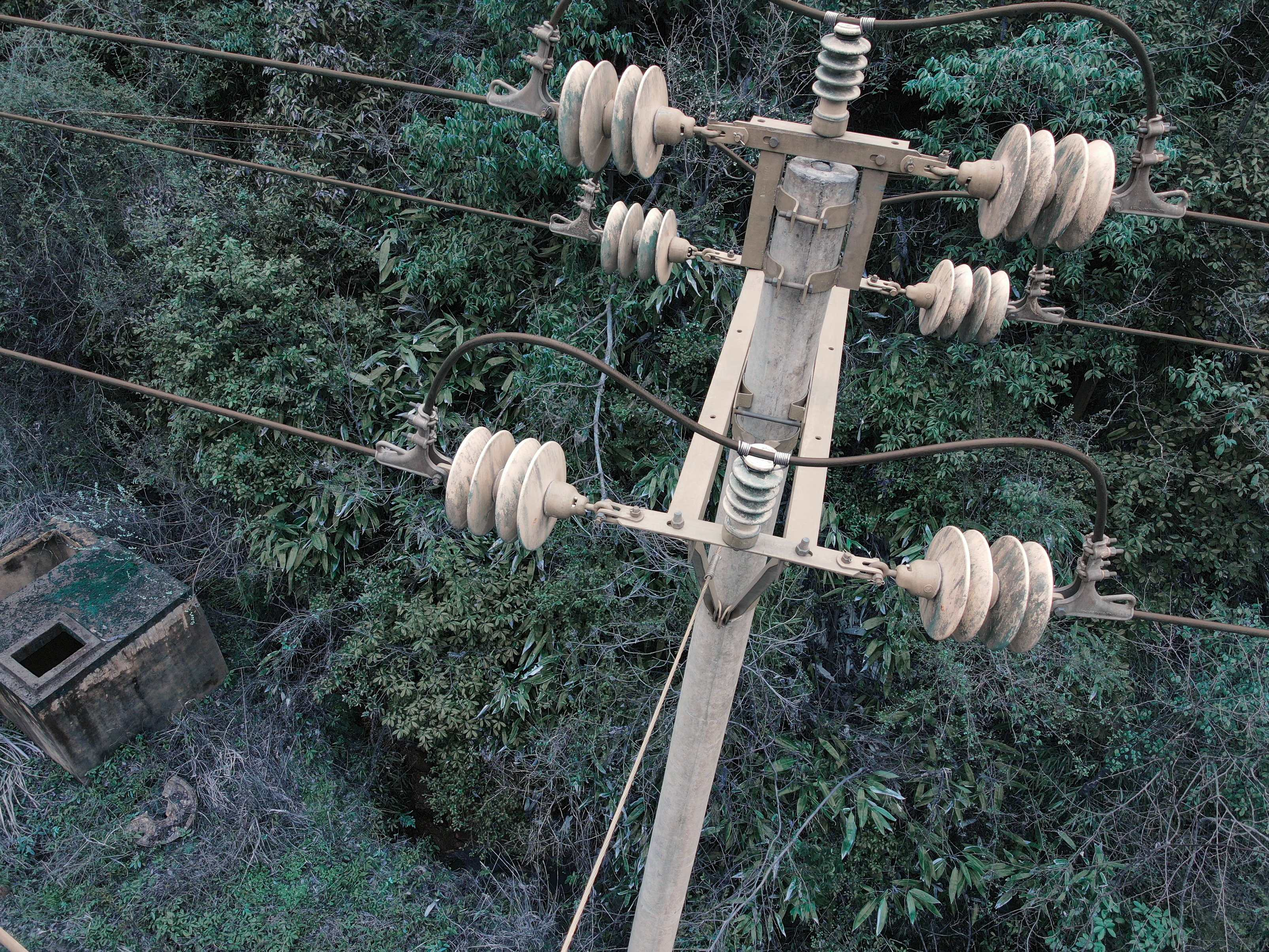severe_soiling_no_discharge_whole: (960, 119, 1119, 250), (897, 530, 1059, 653), (437, 422, 587, 547), (552, 57, 695, 178), (907, 259, 1015, 348), (594, 197, 698, 284), (804, 19, 875, 132), (715, 443, 785, 549)
